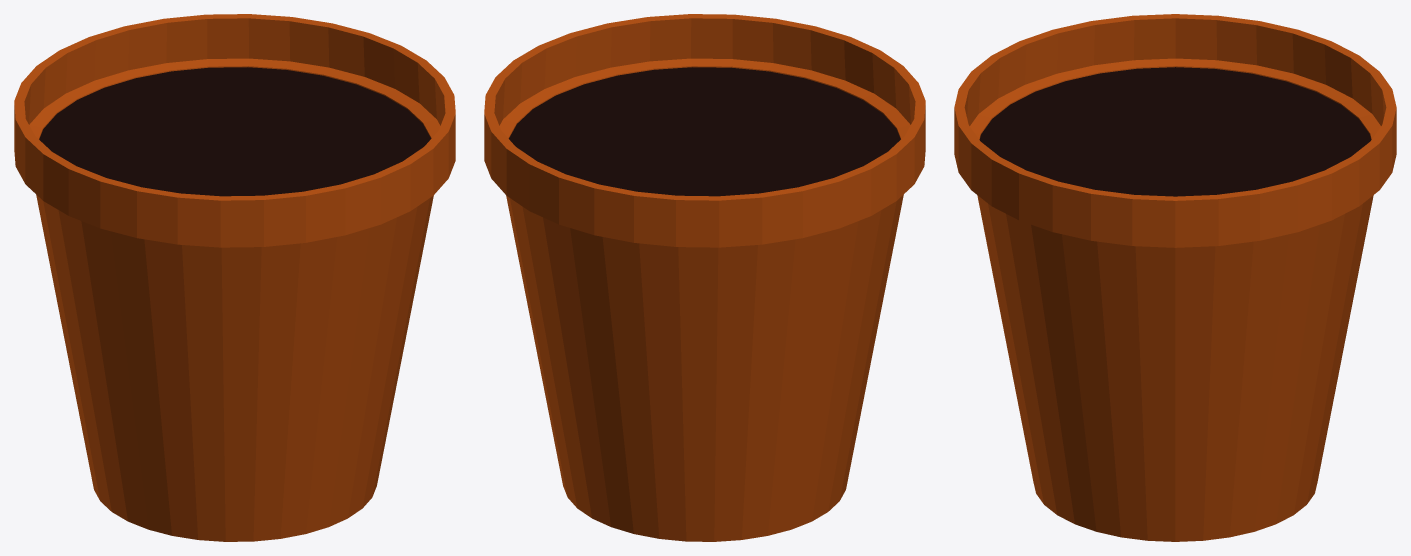
The model's file is plantpot_fixed.fbx.
3 renders of one model, left to right at view 1: azimuth 30°, elevation 25°; view 2: azimuth 150°, elevation 25°; view 3: azimuth 270°, elevation 25°, orthographic.
Parts seen in each view (by area): view 1: Cylinder, Cylinder.001; view 2: Cylinder, Cylinder.001; view 3: Cylinder, Cylinder.001.
Boxes of the visible parts, left/top/right/bottom form: Cylinder: left=14, top=14, right=455, bottom=541; Cylinder.001: left=39, top=67, right=430, bottom=196; Cylinder: left=484, top=14, right=925, bottom=541; Cylinder.001: left=509, top=67, right=900, bottom=196; Cylinder: left=954, top=14, right=1396, bottom=541; Cylinder.001: left=979, top=67, right=1371, bottom=196.
Bounding box in the file's own units: 215 × 201 × 215.
